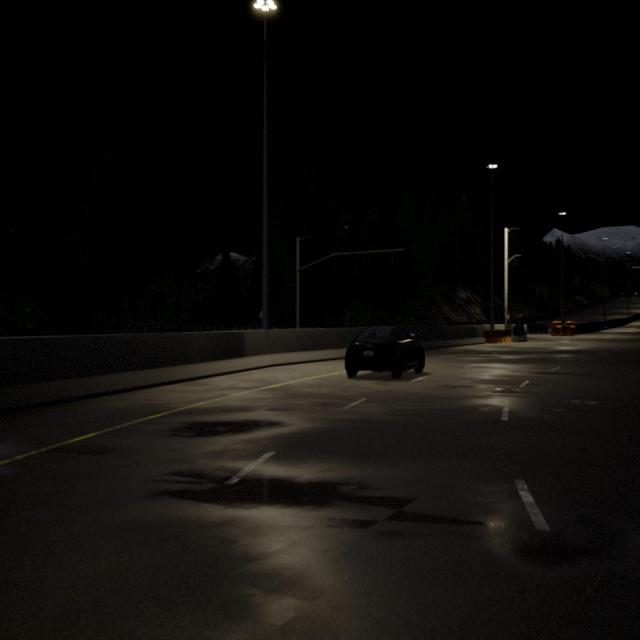Vehicle: (344, 325, 426, 378), (528, 321, 548, 334)
